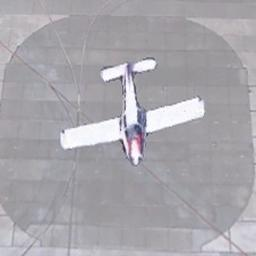Airplane: (58, 55, 205, 166)
